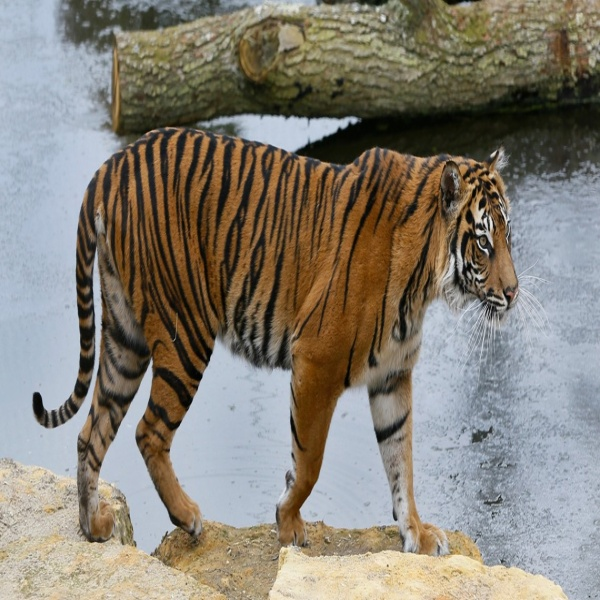Tiger: (31, 118, 527, 560)
